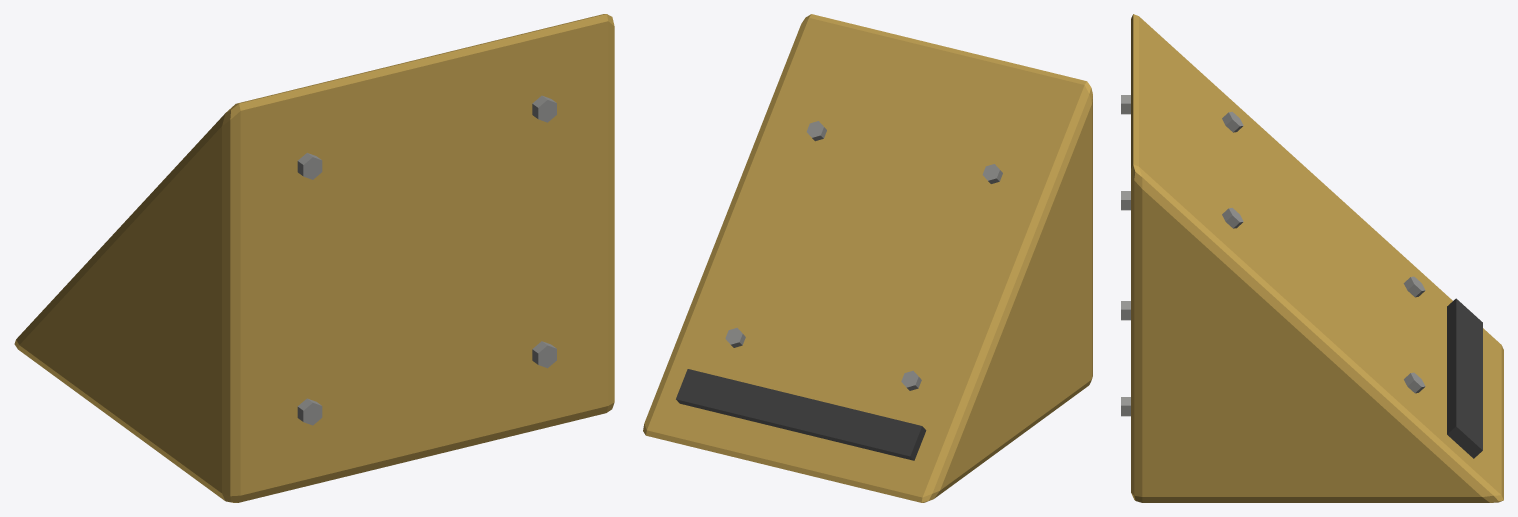
Rendered from wedge.glb.
3 views of the same model, side by side, from view 1: azimuth 30°, elevation 25°; view 2: azimuth 150°, elevation 25°; view 3: azimuth 270°, elevation 25° (orthographic). The views are drawn at different scales.
Visible parts, largest first — view 1: Part; view 2: Part; view 3: Part.
Boxes of the visible parts, x1,y1,x2,y2 form: Part: [14, 14, 614, 502]; Part: [643, 14, 1092, 502]; Part: [1121, 14, 1503, 502].
Bounding box in the file's own units: 0.5 × 0.5055 × 0.5055.
